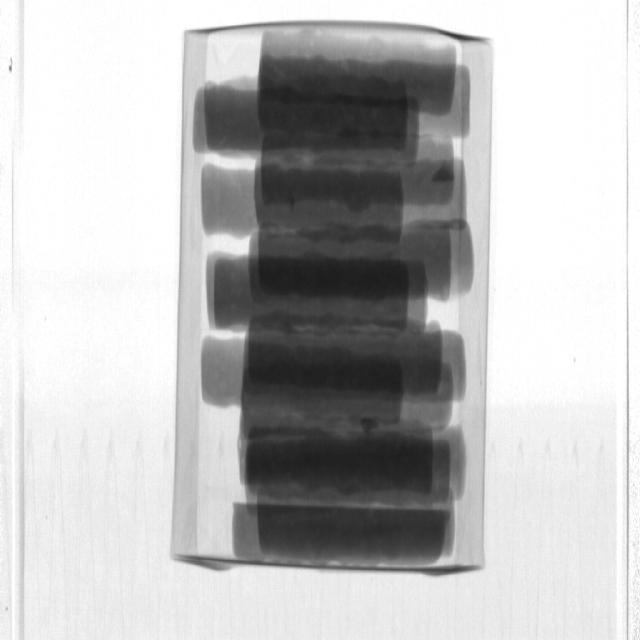ym: (434, 158, 456, 191), (362, 417, 382, 435)
